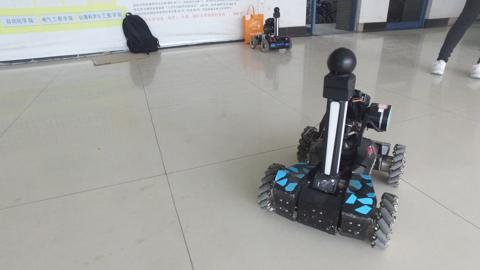bag: (121, 10, 161, 55), (243, 3, 266, 47)
chariot: (256, 46, 407, 251), (249, 6, 292, 52)
